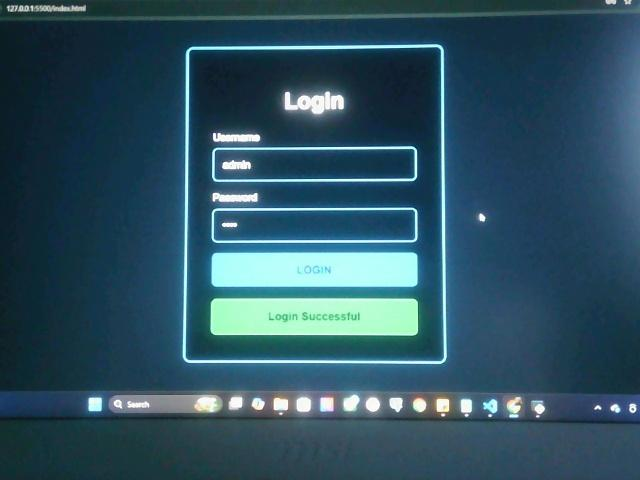login_button: (212, 252, 417, 288)
login_form: (185, 45, 446, 364)
password_input: (211, 208, 418, 244)
success_alert: (211, 298, 419, 336)
title_text: (279, 88, 348, 116)
username_input: (212, 146, 418, 182)
